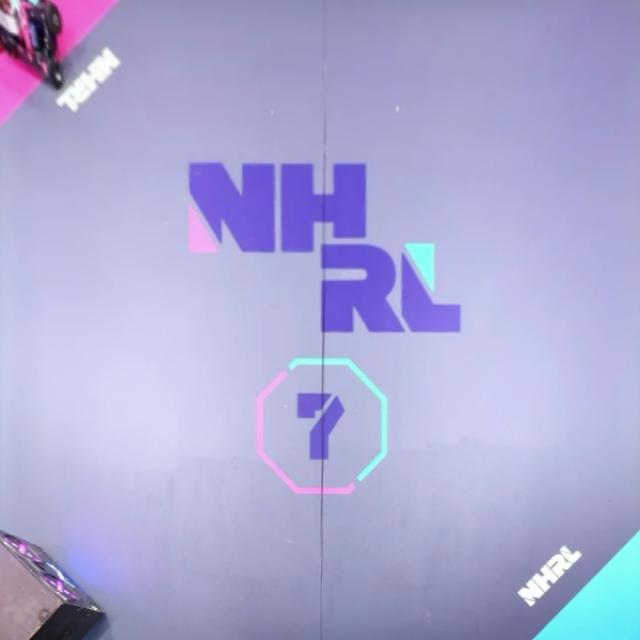housebot: (0, 528, 106, 640)
robot: (0, 0, 64, 90)
